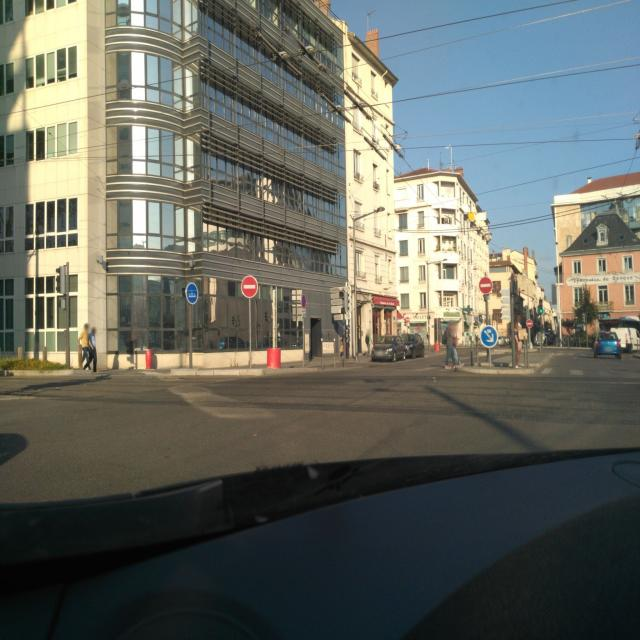car: (370, 334, 406, 362), (593, 330, 622, 360), (401, 332, 425, 358)
